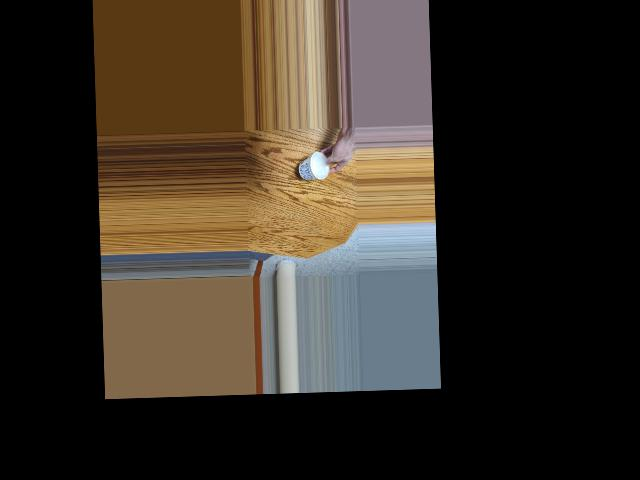cotage: (295, 157, 329, 180)
